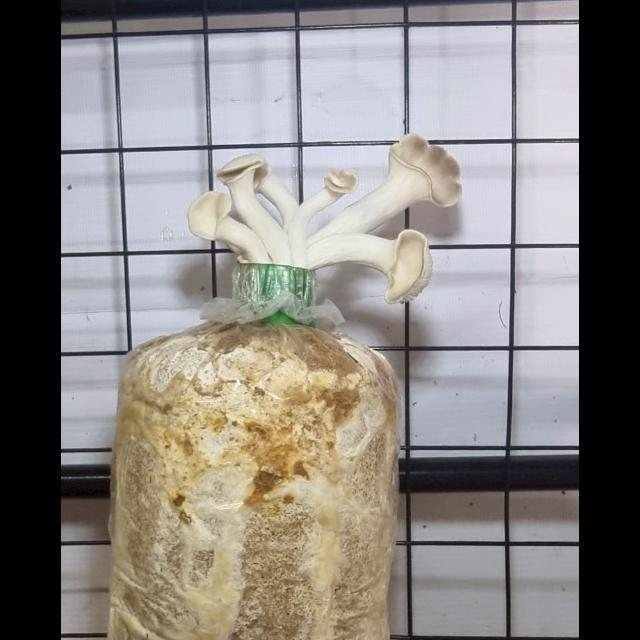normal: (360, 126, 474, 310)
